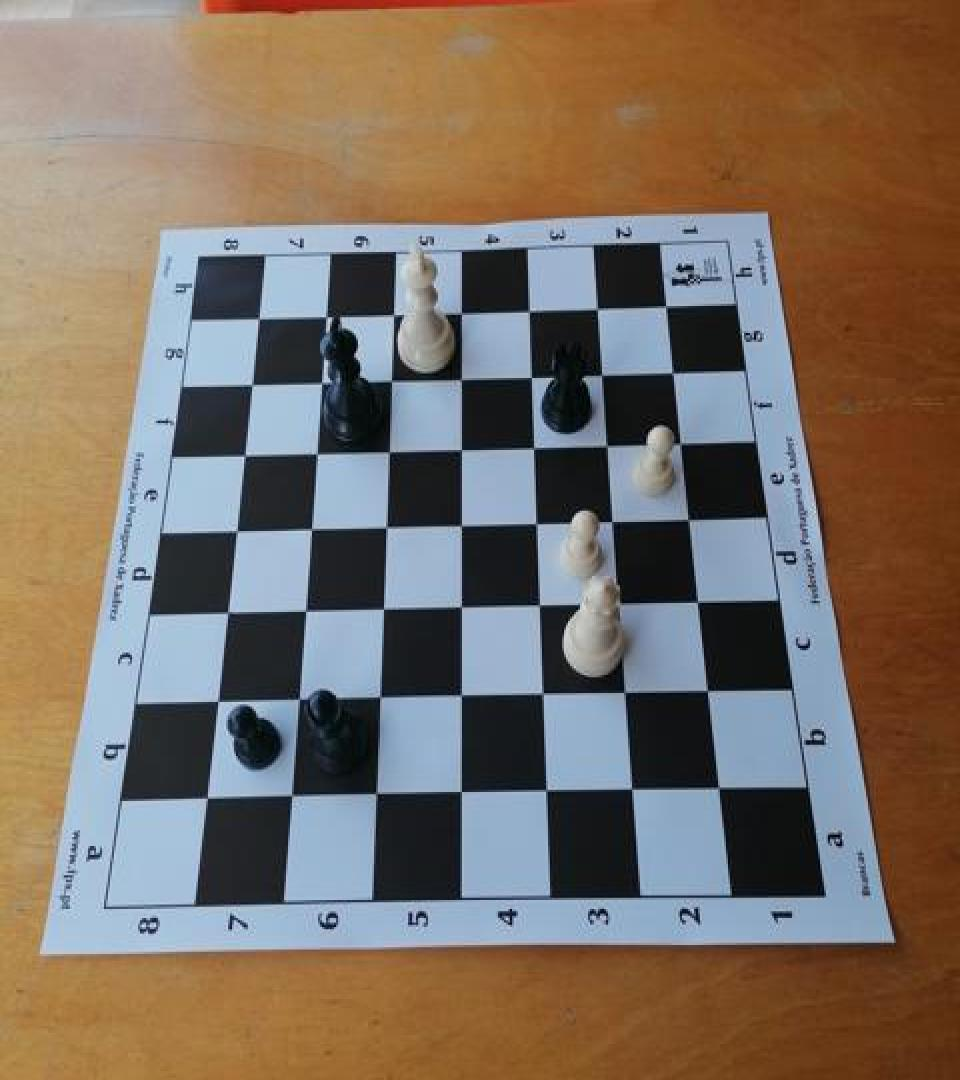xcorner: (191, 780, 221, 814), (275, 780, 305, 814), (361, 777, 391, 811), (446, 776, 476, 810), (532, 774, 562, 808), (618, 773, 648, 807), (705, 770, 735, 804), (201, 684, 231, 718), (283, 682, 313, 716), (446, 678, 476, 712), (528, 676, 558, 710), (611, 675, 641, 709), (694, 672, 724, 706), (211, 595, 241, 629), (289, 593, 319, 627), (368, 590, 398, 624), (446, 590, 476, 624), (525, 587, 555, 621), (605, 585, 635, 619), (684, 582, 714, 616), (220, 512, 250, 546), (296, 510, 326, 544), (371, 508, 401, 542), (447, 506, 477, 540), (522, 504, 552, 538), (599, 503, 629, 537), (229, 436, 259, 470), (301, 434, 331, 468), (374, 432, 404, 466), (447, 430, 477, 464), (520, 428, 550, 462), (593, 425, 623, 459), (667, 424, 697, 458), (237, 366, 267, 400), (307, 363, 337, 397), (377, 361, 407, 395), (447, 359, 477, 393), (517, 356, 547, 390), (588, 354, 618, 388), (659, 352, 689, 386), (244, 299, 274, 333), (312, 297, 342, 331), (379, 294, 409, 328), (515, 290, 545, 324), (583, 288, 613, 322), (652, 287, 682, 321), (364, 681, 394, 714), (675, 501, 705, 534), (447, 293, 477, 326)
